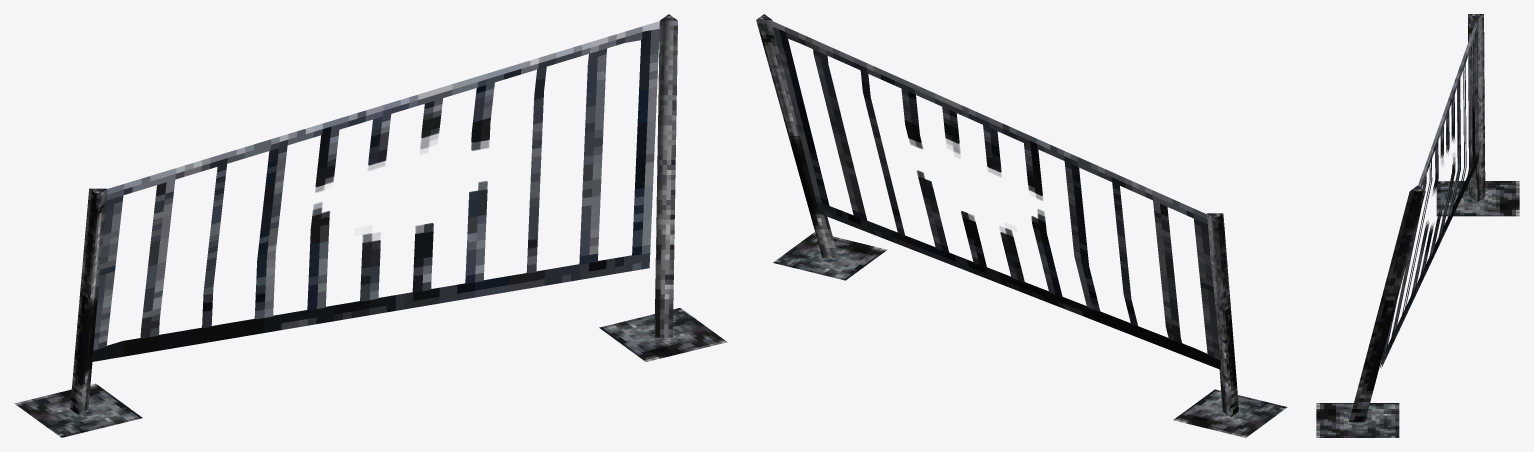
The model's file is Environment - Prop - Police Barracades - Damaged - PMpolbar_D.glb.
3 renders of one model, left to right at view 1: azimuth 30°, elevation 25°; view 2: azimuth 150°, elevation 25°; view 3: azimuth 270°, elevation 25°, orthographic. The views are drawn at different scales.
Parts seen in each view (by area): view 1: PMPOLBAR_D; view 2: PMPOLBAR_D; view 3: PMPOLBAR_D.
Part boxes in pixels (x1=…): PMPOLBAR_D: x1=14, y1=14, x2=727, y2=437; PMPOLBAR_D: x1=756, y1=14, x2=1287, y2=437; PMPOLBAR_D: x1=1316, y1=14, x2=1519, y2=437.
Size of the model in its own units: 20.29 by 9.11 by 6.76.
1 material, 1 textured.
